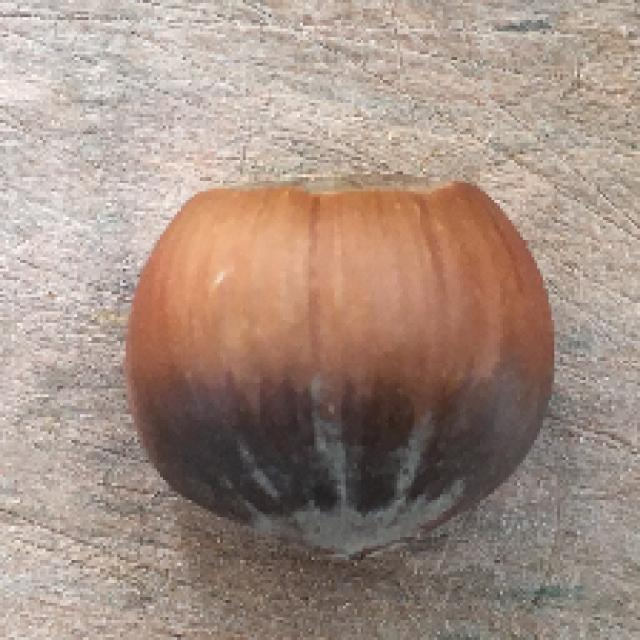DamagedHazelnut: (129, 176, 555, 554)
